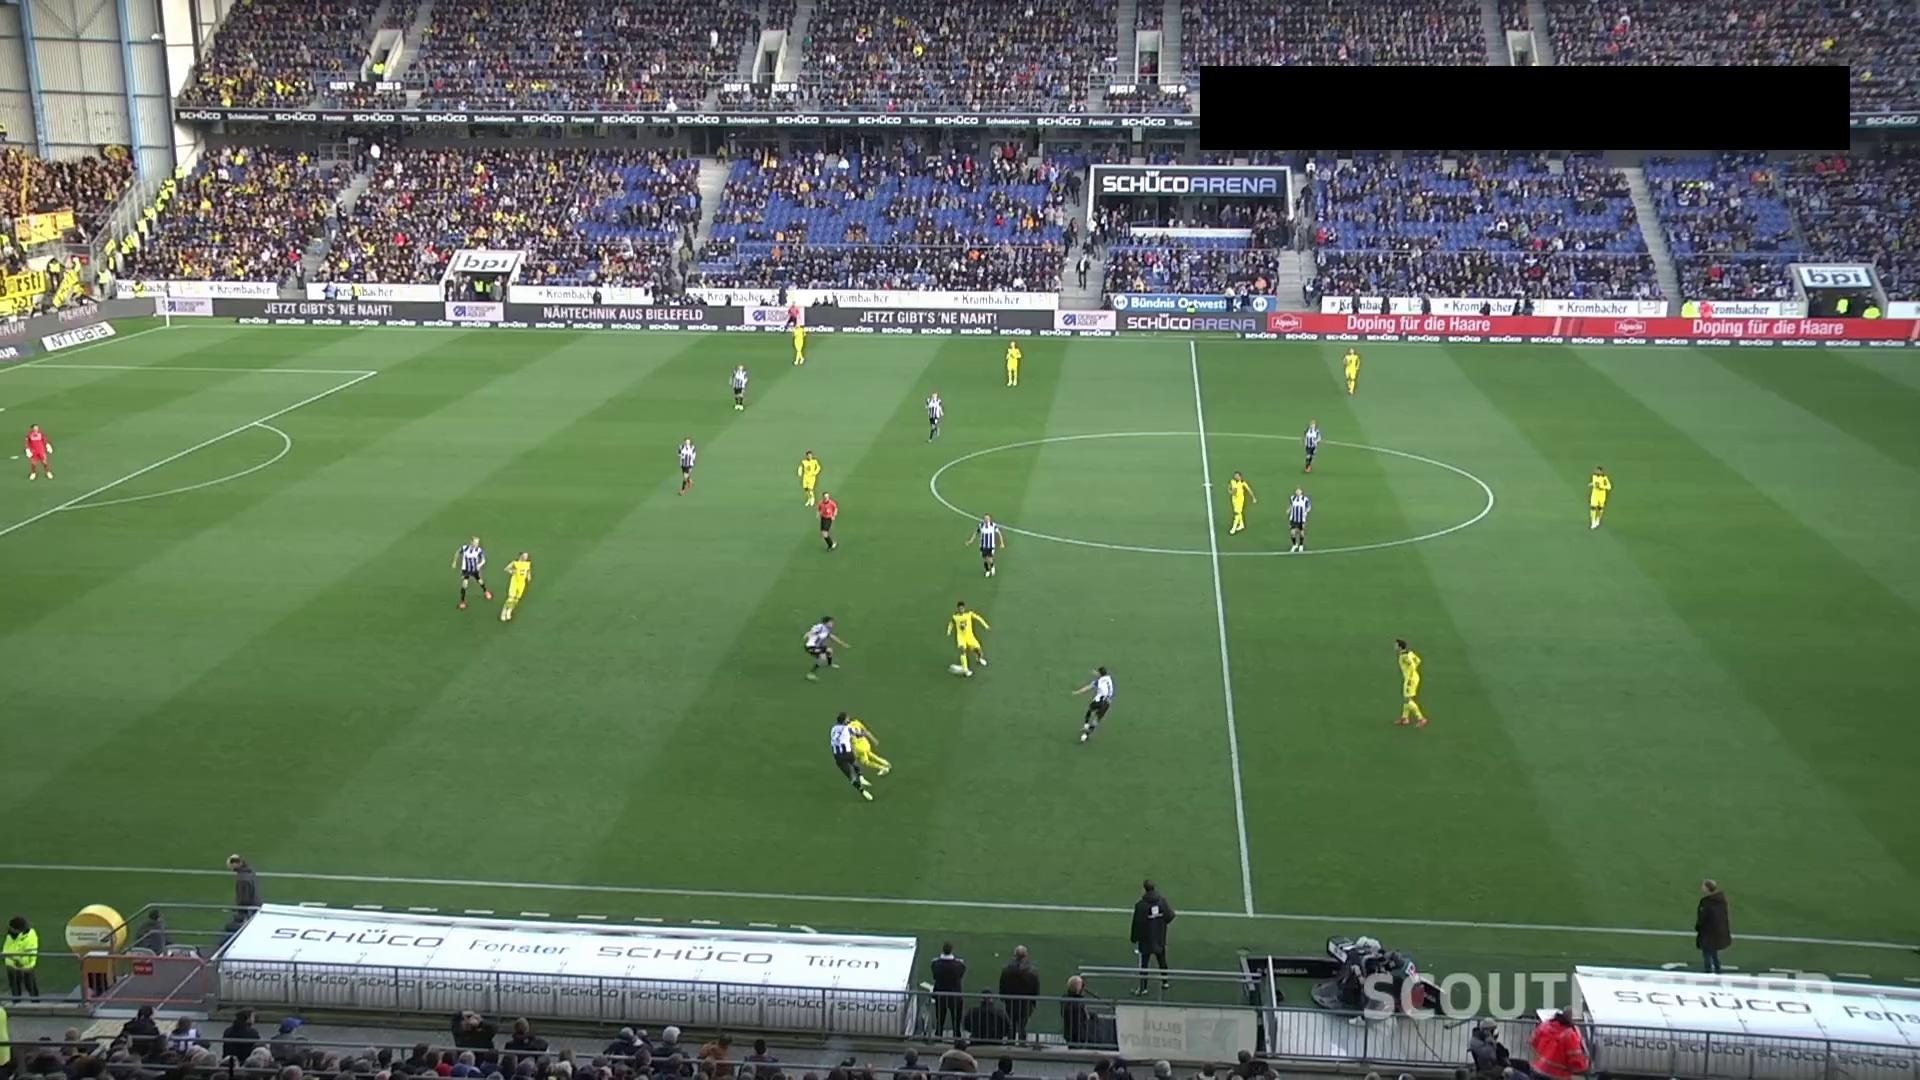Location-of-ball: (944, 653, 967, 682)
